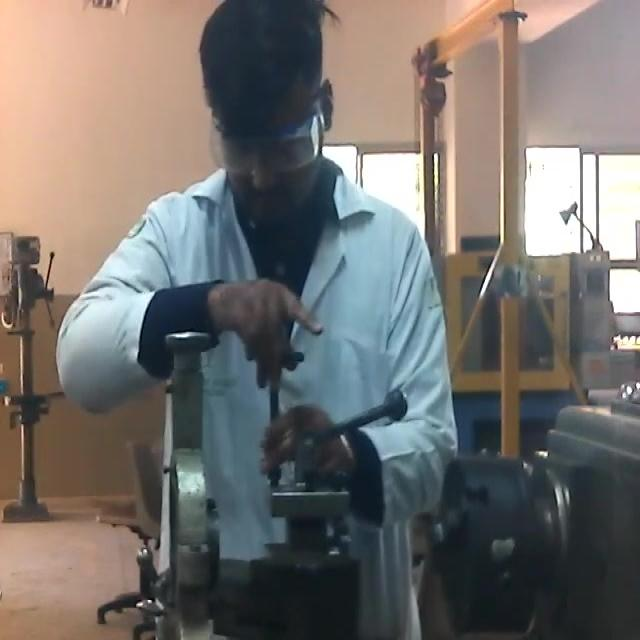googles: (212, 116, 320, 182)
labcoat: (58, 158, 458, 640)
